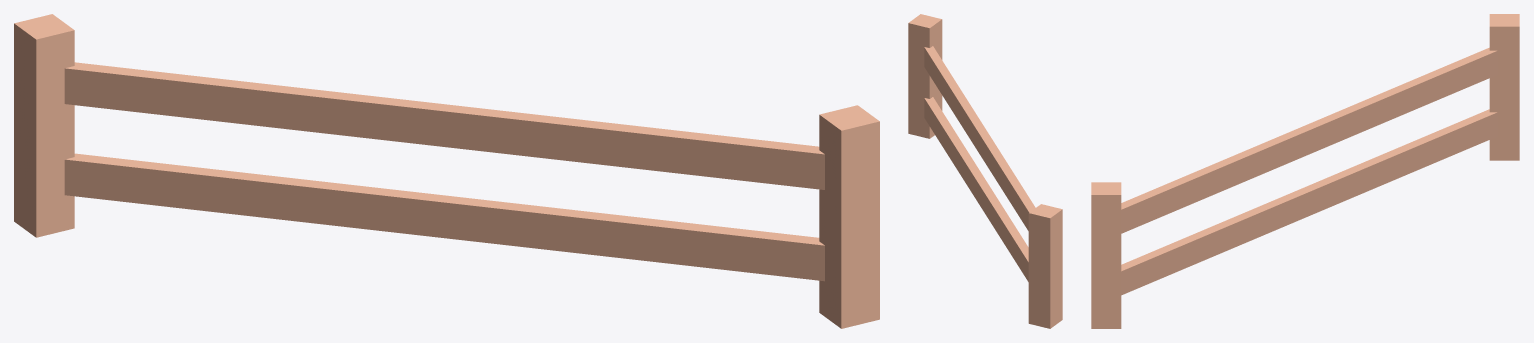
The model's file is fence_simpleDiagonal.glb.
3 renders of one model, left to right at view 1: azimuth 30°, elevation 25°; view 2: azimuth 150°, elevation 25°; view 3: azimuth 270°, elevation 25°, orthographic. The views are drawn at different scales.
Parts seen in each view (by area): view 1: fence_simpleDiagonal; view 2: fence_simpleDiagonal; view 3: fence_simpleDiagonal.
Part boxes in pixels (x1=…): fence_simpleDiagonal: x1=14, y1=14, x2=879, y2=328; fence_simpleDiagonal: x1=908, y1=14, x2=1062, y2=328; fence_simpleDiagonal: x1=1091, y1=14, x2=1519, y2=328.
Size of the model in its own units: 1 by 0.345 by 1.
